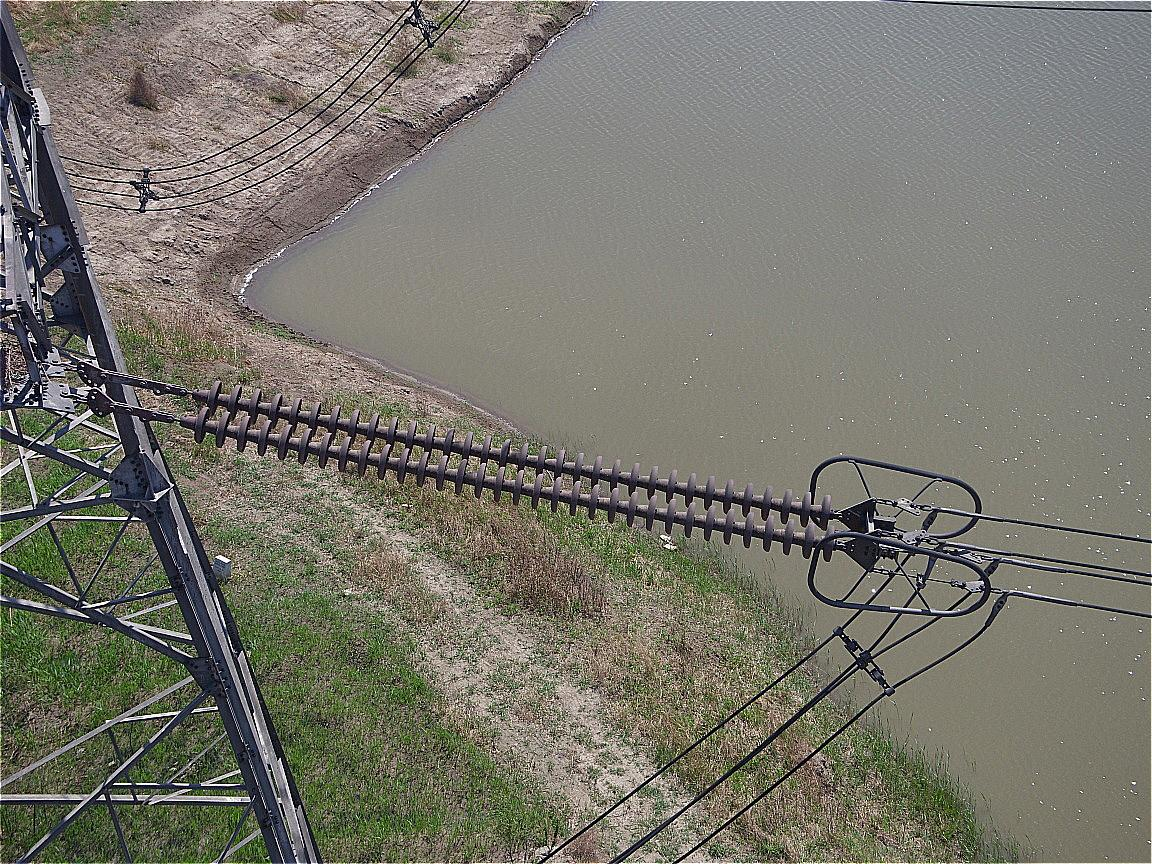insultor1: (160, 376, 862, 558)
